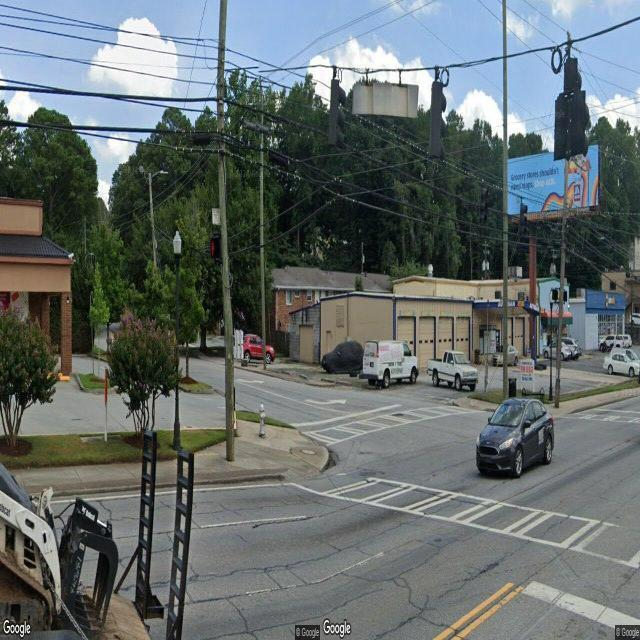seating: (521, 386, 545, 406)
trash_can: (508, 377, 516, 398)
